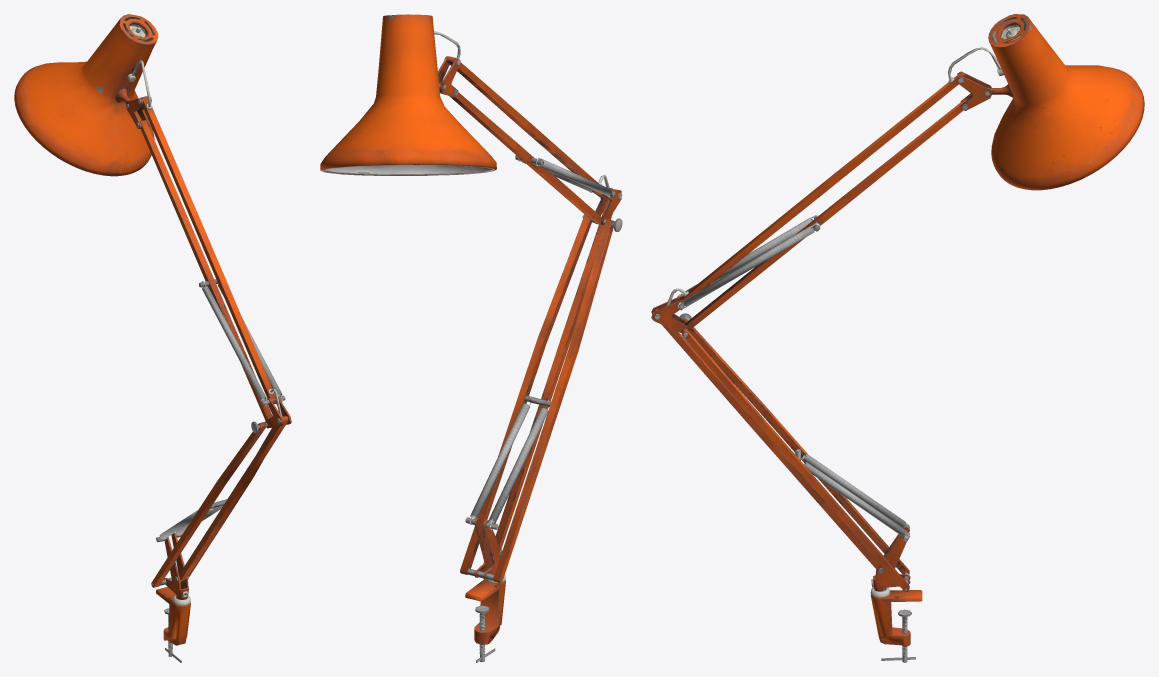
Rendered from ph-desk-lamp.glb.
The picture shows the model from 3 angles, left to right: view 1: azimuth 30°, elevation 25°; view 2: azimuth 150°, elevation 25°; view 3: azimuth 270°, elevation 25°; orthographic projection. The views are drawn at different scales.
Parts seen in each view (by area): view 1: desk_lamp_arm_01; view 2: desk_lamp_arm_01; view 3: desk_lamp_arm_01.
Part boxes in pixels (x1,y1,x2,y2): desk_lamp_arm_01: (14, 14, 291, 662); desk_lamp_arm_01: (320, 14, 622, 662); desk_lamp_arm_01: (651, 14, 1144, 662).
Size of the model in its own units: 0.2017 by 0.8926 by 0.6139.
2 materials, 2 textured.
